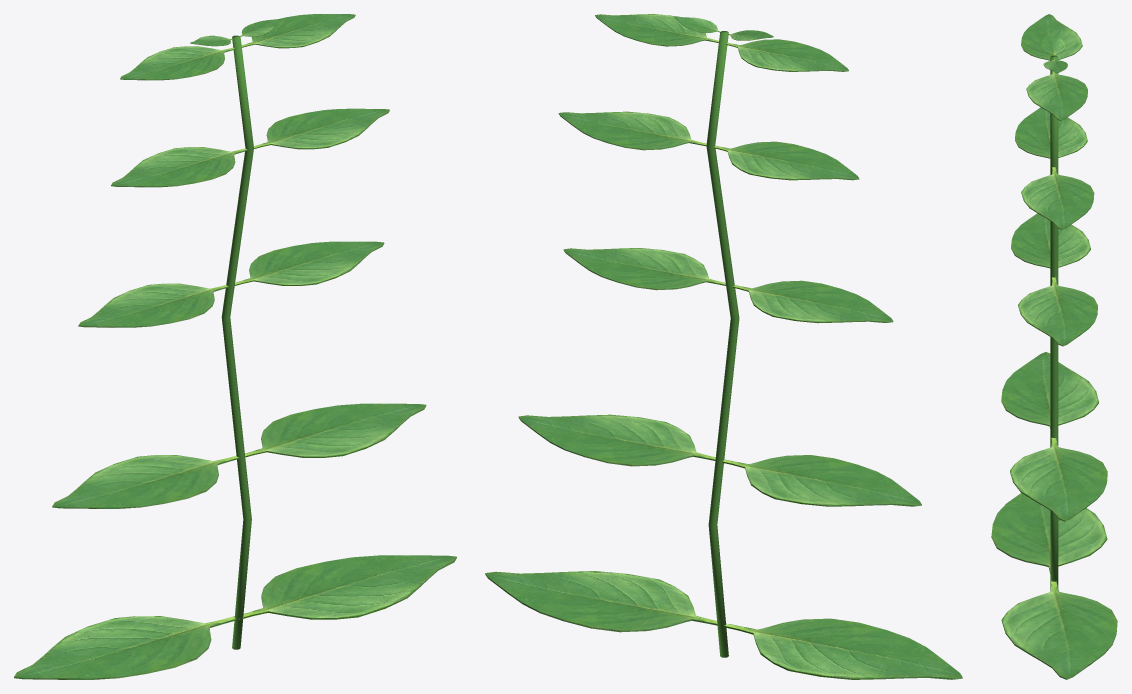
The model's file is jingjie.FBX.
3 views of the same model, side by side, from view 1: azimuth 30°, elevation 25°; view 2: azimuth 150°, elevation 25°; view 3: azimuth 270°, elevation 25° (orthographic). The views are drawn at different scales.
Visible parts, largest first — view 1: Line001, Line002, Line004, Line003, Cylinder001, Line005, Line006, Line007, Line008, Line010, Line009; view 2: Line001, Line002, Line004, Line003, Cylinder001, Line005, Line006, Line008, Line007, Line010, Line009; view 3: Line002, Line001, Line003, Line004, Line005, Line007, Line006, Cylinder001, Line008, Line009, Line010, Line012 (+1 smaller).
Part boxes in pixels (x1,y1,x2,y2): Line001: (14,616,235,679); Line002: (238,555,456,619); Line004: (52,455,239,508); Line003: (244,403,426,457); Cylinder001: (221,35,253,649); Line005: (234,241,384,285); Line006: (78,283,228,327); Line007: (254,108,389,149); Line008: (111,147,247,187); Line010: (120,46,235,80); Line009: (241,14,355,48); Line001: (723,618,962,679); Line002: (485,571,726,632); Line004: (722,455,921,506); Line003: (518,414,715,466); Cylinder001: (706,31,739,657); Line005: (563,248,725,290); Line006: (733,280,893,323); Line008: (713,141,859,180); Line007: (558,111,706,150); Line010: (726,39,848,71); Line009: (595,14,718,46); Line002: (1001,581,1117,679); Line001: (991,493,1107,573); Line003: (1010,437,1107,521); Line004: (1001,352,1098,428); Line005: (1018,277,1097,346); Line007: (1021,167,1094,229); Line006: (1011,213,1090,268); Cylinder001: (1050,55,1058,591); Line008: (1015,107,1087,158); Line009: (1026,71,1087,120); Line010: (1021,14,1082,60); Line012: (1041,30,1065,55).
Size of the model in its own units: 65.12 by 84.36 by 17.36.
1 material, 1 textured.
